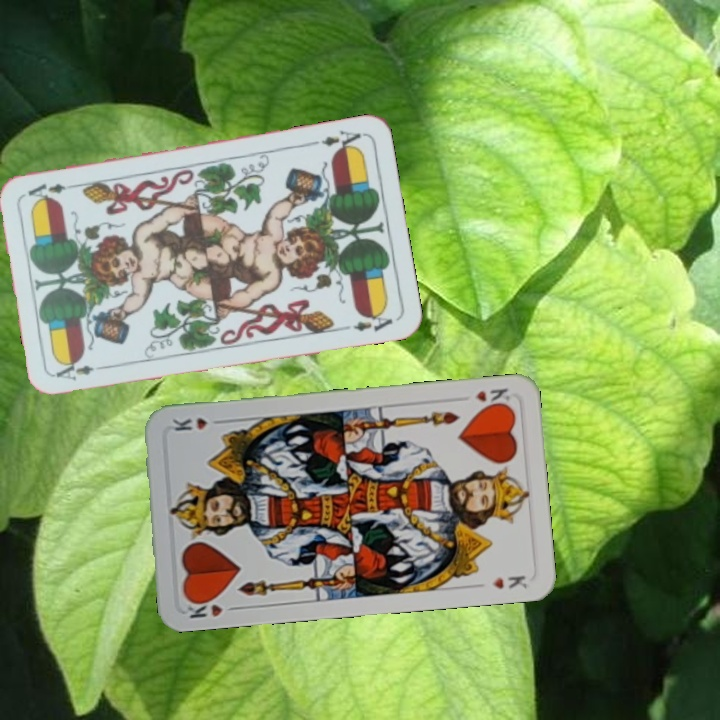EA: (307, 126, 364, 154), (52, 359, 96, 383)
HK: (181, 593, 225, 621), (471, 383, 512, 411)
